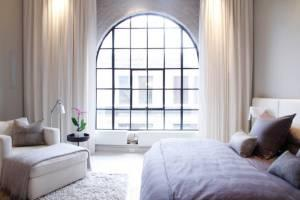window: (93, 11, 204, 132)
